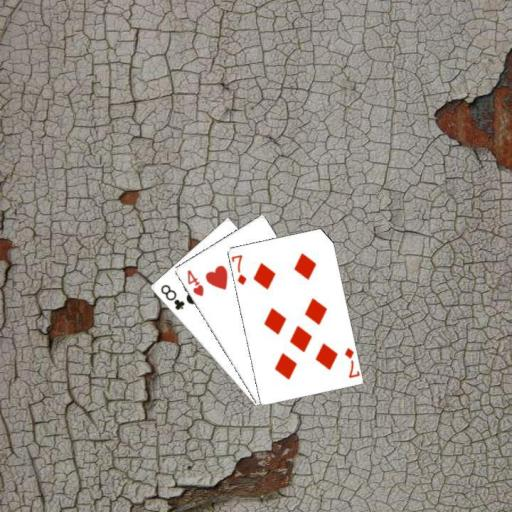4H: (183, 267, 205, 298)
7D: (229, 251, 247, 287), (341, 344, 359, 379)
8C: (157, 281, 186, 311)
